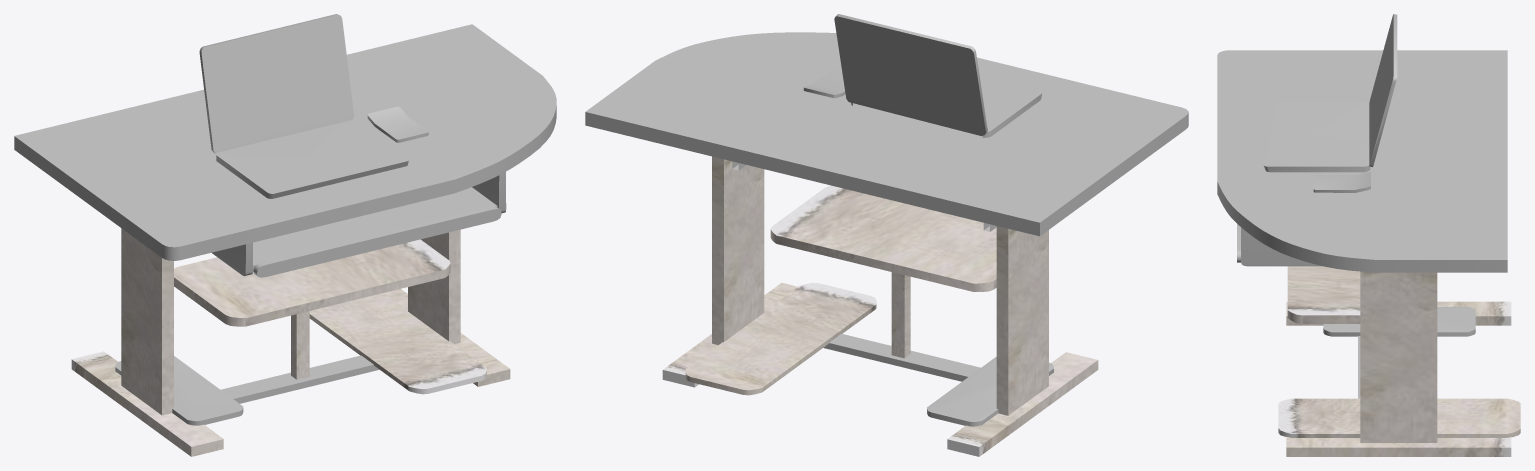
File: Escritorio1.FBX
The picture shows the model from 3 angles, left to right: view 1: azimuth 30°, elevation 25°; view 2: azimuth 150°, elevation 25°; view 3: azimuth 270°, elevation 25°; orthographic projection. The views are drawn at different scales.
Parts seen in each view (by area): view 1: Escritorio_1, Escritorio_2, Pantalla; view 2: Escritorio_1, Escritorio_2; view 3: Escritorio_1, Escritorio_2, Pantalla.
Part boxes in pixels (x1,y1,x2,y2): Escritorio_1: (14, 14, 556, 425); Escritorio_2: (71, 228, 510, 456); Pantalla: (206, 26, 348, 141); Escritorio_1: (585, 14, 1188, 426); Escritorio_2: (662, 156, 1098, 456); Escritorio_1: (1217, 14, 1507, 398); Escritorio_2: (1278, 266, 1520, 456); Pantalla: (1372, 25, 1390, 154).
Bounding box in the file's own units: 1.79 × 1.31 × 1.09.
